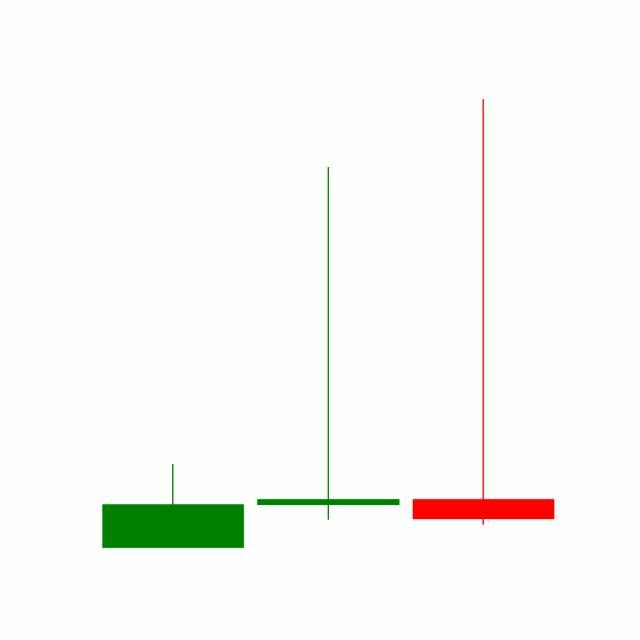Spinning Top: (250, 164, 407, 525)
